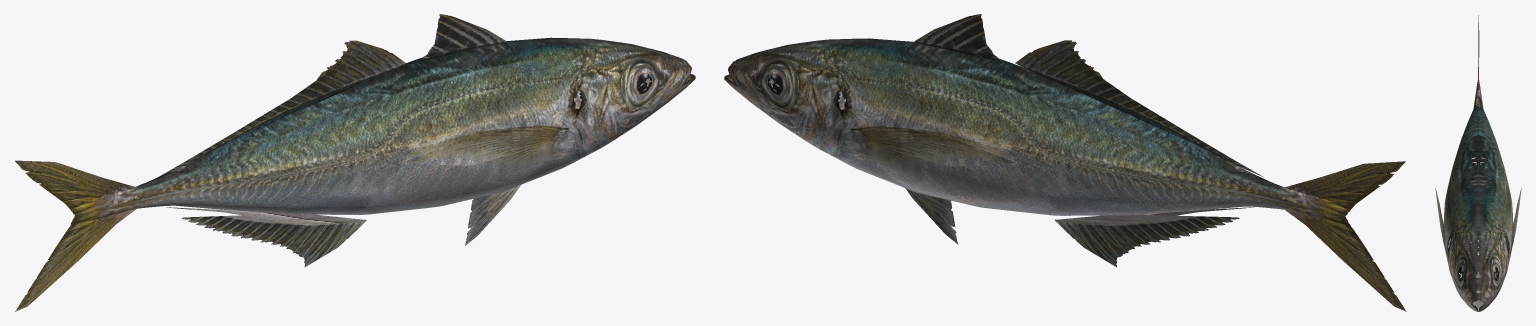
The model's file is horse-mackerel.glb.
3 views of the same model, side by side, from view 1: azimuth 30°, elevation 25°; view 2: azimuth 150°, elevation 25°; view 3: azimuth 270°, elevation 25° (orthographic). The views are drawn at different scales.
Visible parts, largest first — view 1: Japanese horse mackerel; view 2: Japanese horse mackerel; view 3: Japanese horse mackerel.
Boxes of the visible parts, x1,y1,x2,y2 form: Japanese horse mackerel: (15, 14, 695, 311); Japanese horse mackerel: (724, 14, 1406, 311); Japanese horse mackerel: (1435, 15, 1521, 311).
Size of the model in its own units: 0.4412 by 0.147 by 0.0681.
1 material, 1 textured.
